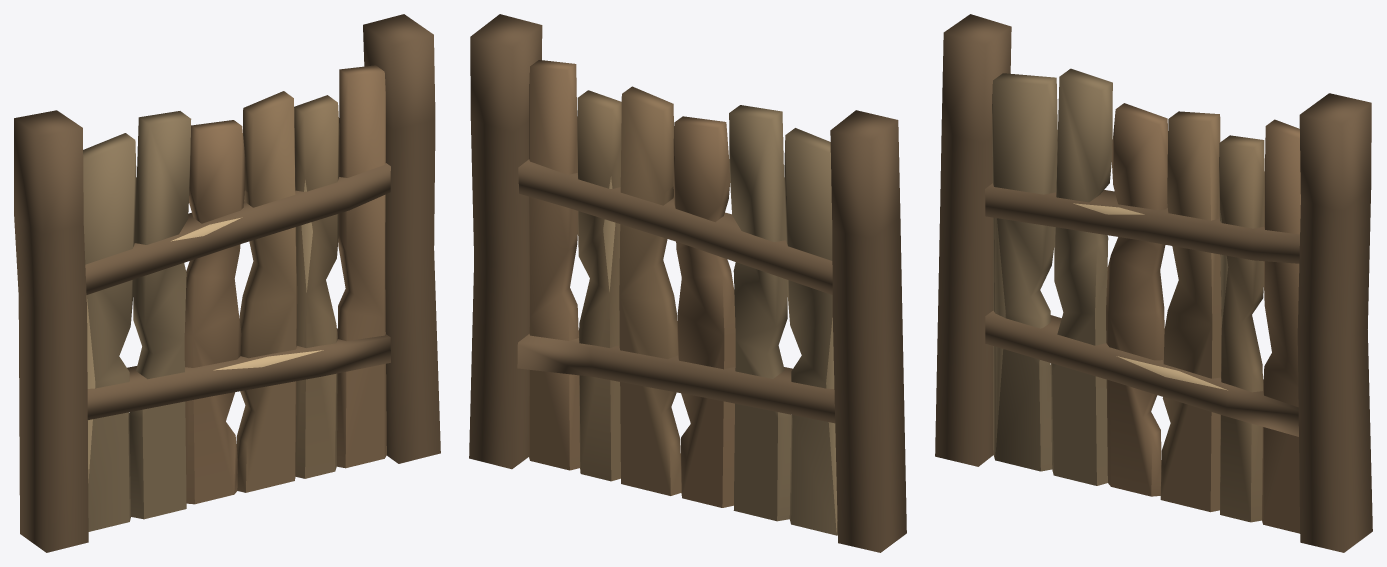
File: rpgpp_av_fence_03b_2m.gltf
3 views of the same model, side by side, from view 1: azimuth 30°, elevation 25°; view 2: azimuth 150°, elevation 25°; view 3: azimuth 330°, elevation 25° (orthographic).
Visible parts, largest first — view 1: rpgpp_av_fence_03b_2m; view 2: rpgpp_av_fence_03b_2m; view 3: rpgpp_av_fence_03b_2m.
Part boxes in pixels (x1,y1,x2,y2): rpgpp_av_fence_03b_2m: [14, 14, 440, 552]; rpgpp_av_fence_03b_2m: [469, 14, 906, 552]; rpgpp_av_fence_03b_2m: [935, 14, 1372, 552].
Bounding box in the file's own units: 0.0217 × 0.0217 × 0.00334.
Materials: 1 (1 with a texture image).
